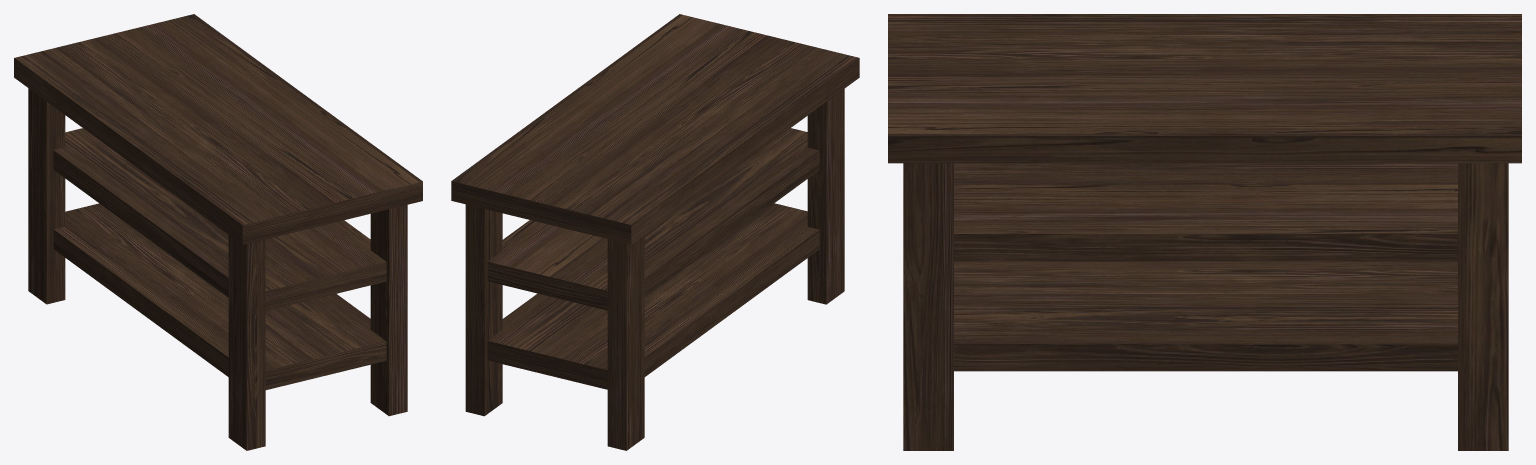
File: F_Table_03.fbx
The picture shows the model from 3 angles, left to right: view 1: azimuth 30°, elevation 25°; view 2: azimuth 150°, elevation 25°; view 3: azimuth 270°, elevation 25°; orthographic projection. The views are drawn at different scales.
Parts seen in each view (by area): view 1: F_Table_03; view 2: F_Table_03; view 3: F_Table_03.
Part boxes in pixels (x1,y1,x2,y2): F_Table_03: [14, 14, 422, 450]; F_Table_03: [451, 14, 859, 450]; F_Table_03: [888, 14, 1521, 450].
Bounding box in the file's own units: 71.48 × 87.94 × 157.
Materials: 1 (1 with a texture image).
